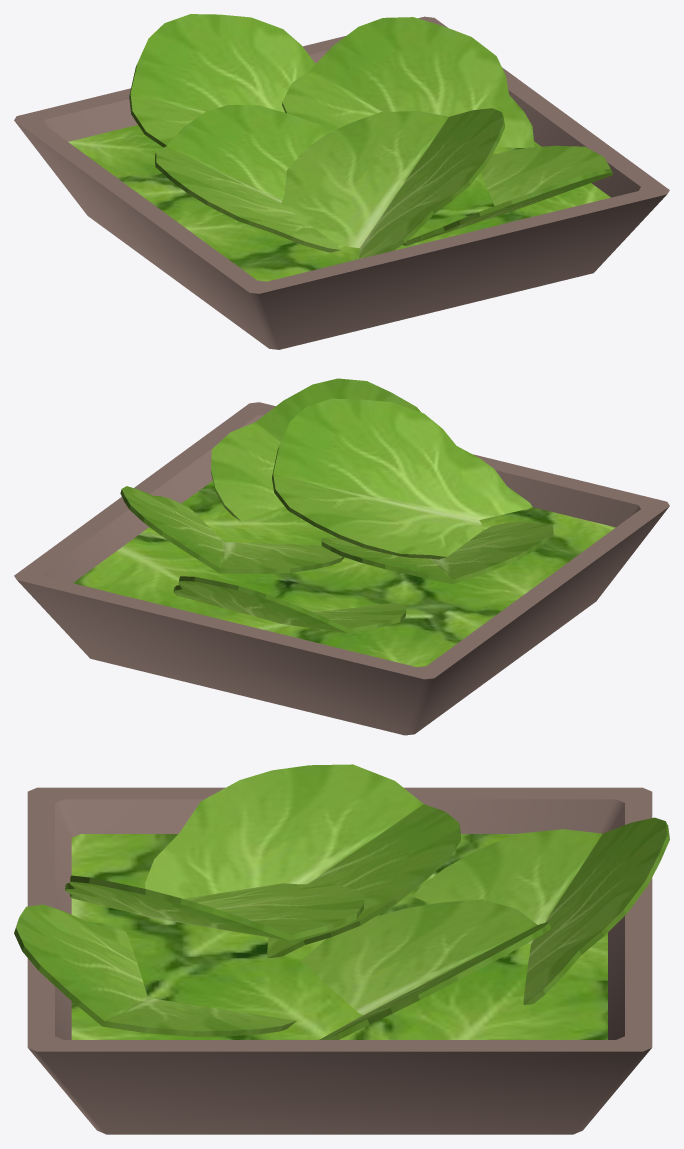
Rendered from SaladDisplay.glb.
3 renders of one model, top to bottom at view 1: azimuth 30°, elevation 25°; view 2: azimuth 150°, elevation 25°; view 3: azimuth 270°, elevation 25°, orthographic. The views are drawn at different scales.
Parts seen in each view (by area): view 1: SaladDisplay; view 2: SaladDisplay; view 3: SaladDisplay.
Boxes of the visible parts, left/top/right/bottom form: SaladDisplay: left=14, top=14, right=669, bottom=349; SaladDisplay: left=14, top=378, right=669, bottom=735; SaladDisplay: left=14, top=764, right=669, bottom=1134.
Size of what is drawn, in the model's own units: 0.8327 by 0.2897 by 0.8746.
Materials: 2 (2 with a texture image).
